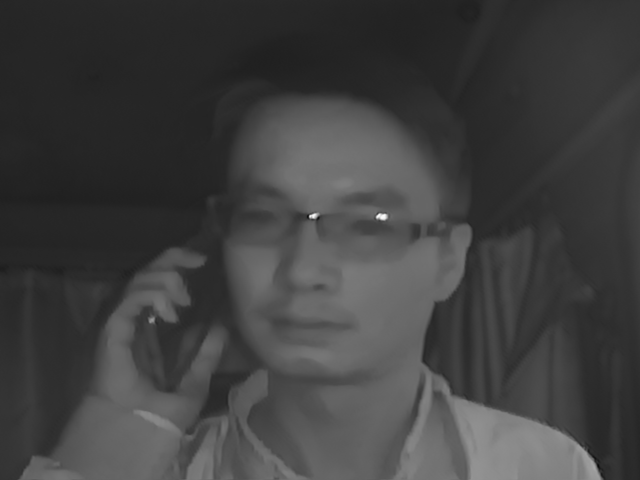hand: (91, 244, 220, 420)
